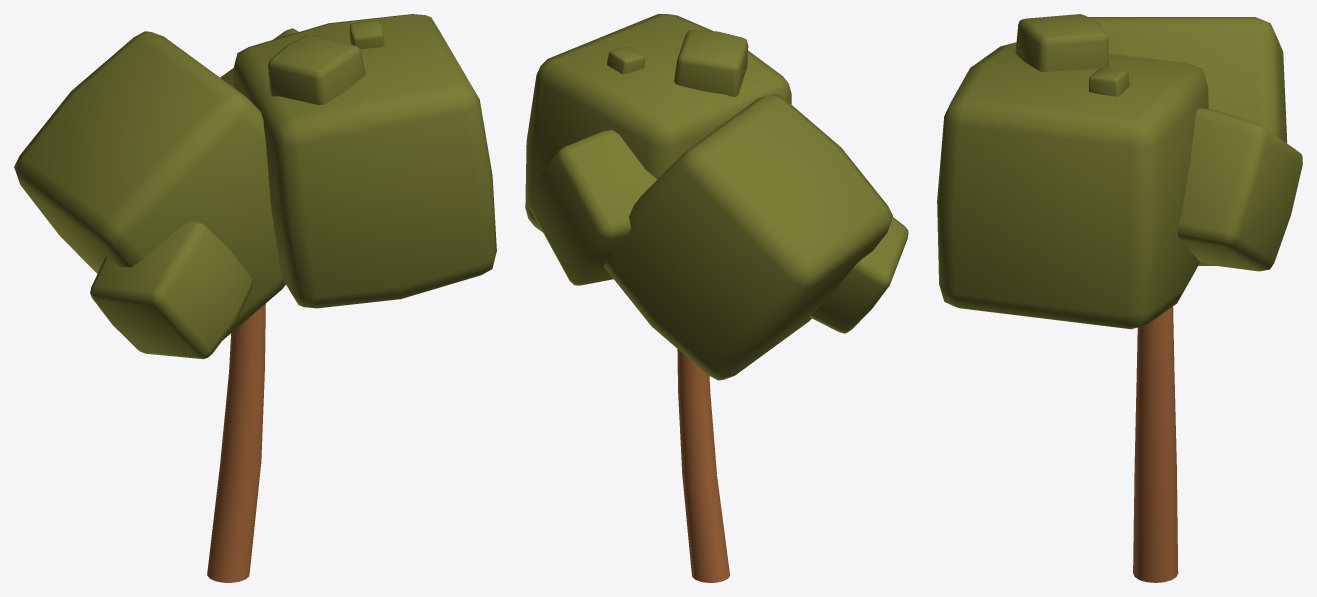
File: tree-05.glb
The picture shows the model from 3 angles, left to right: view 1: azimuth 30°, elevation 25°; view 2: azimuth 150°, elevation 25°; view 3: azimuth 270°, elevation 25°; orthographic projection. The views are drawn at different scales.
Parts seen in each view (by area): view 1: tree 05; view 2: tree 05; view 3: tree 05.
Boxes of the visible parts, x1,y1,x2,y2 form: tree 05: (14, 14, 496, 582); tree 05: (525, 14, 908, 582); tree 05: (937, 14, 1302, 582).
Bounding box in the file's own units: 2.99 × 4.1 × 2.37.
1 material, 1 textured.
